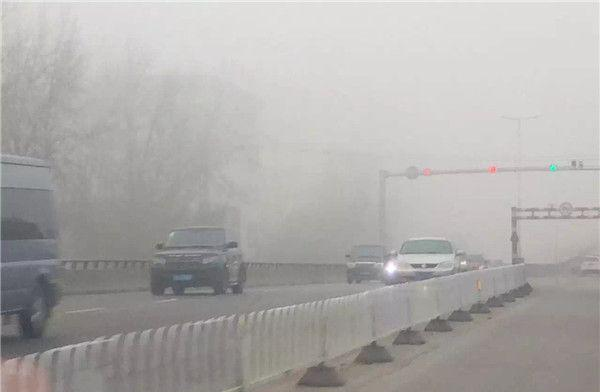car: (1, 152, 62, 340), (149, 226, 246, 297), (387, 236, 465, 290), (345, 243, 391, 286), (464, 254, 489, 276), (446, 250, 468, 274), (578, 254, 600, 277), (565, 257, 585, 275)
